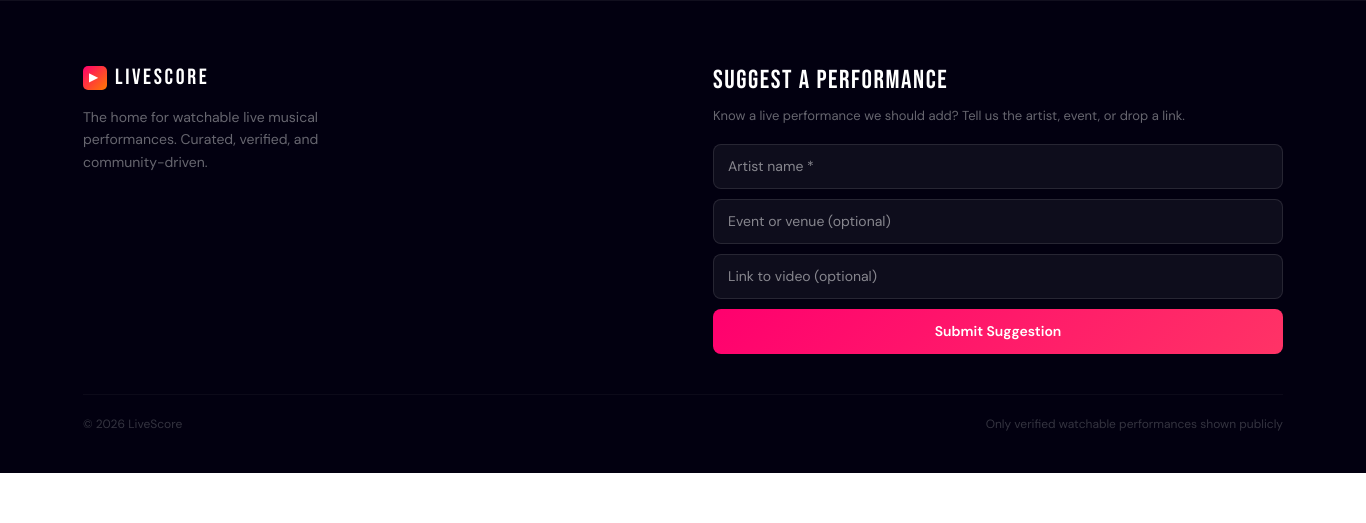
Test case: SuggestFooter › surfaces error text when Supabase returns an error
The image size is (1366, 523).
Type "Radiohead" into the field with placeholder "Artist name *" at [998, 166], box [713,144,1283,188]
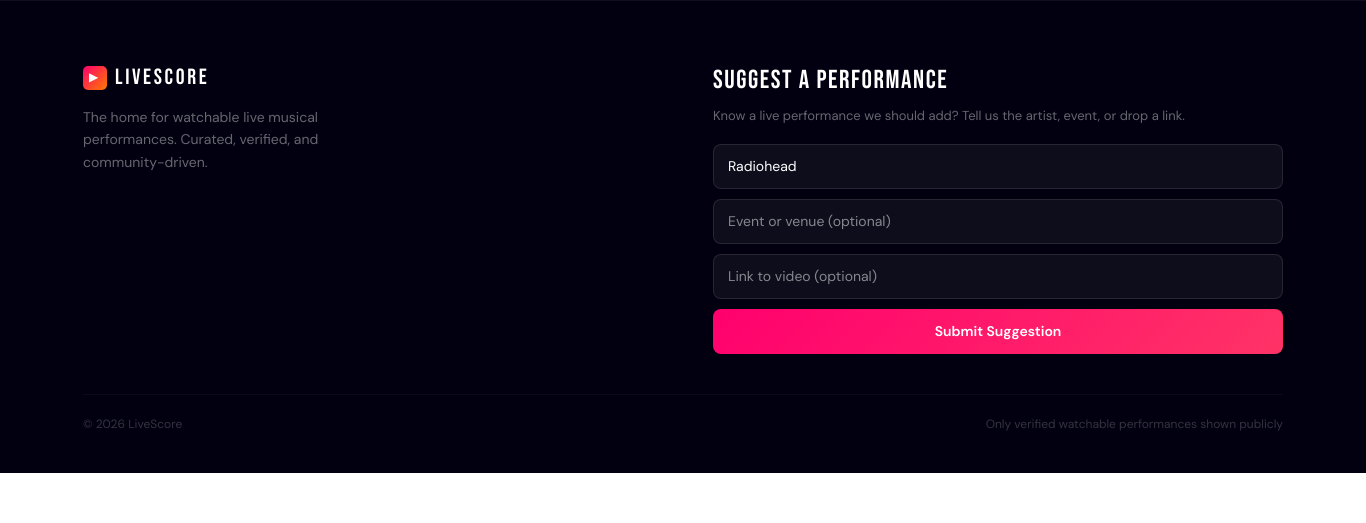
Click the button "Submit Suggestion" at [998, 331], box [713,308,1283,354]
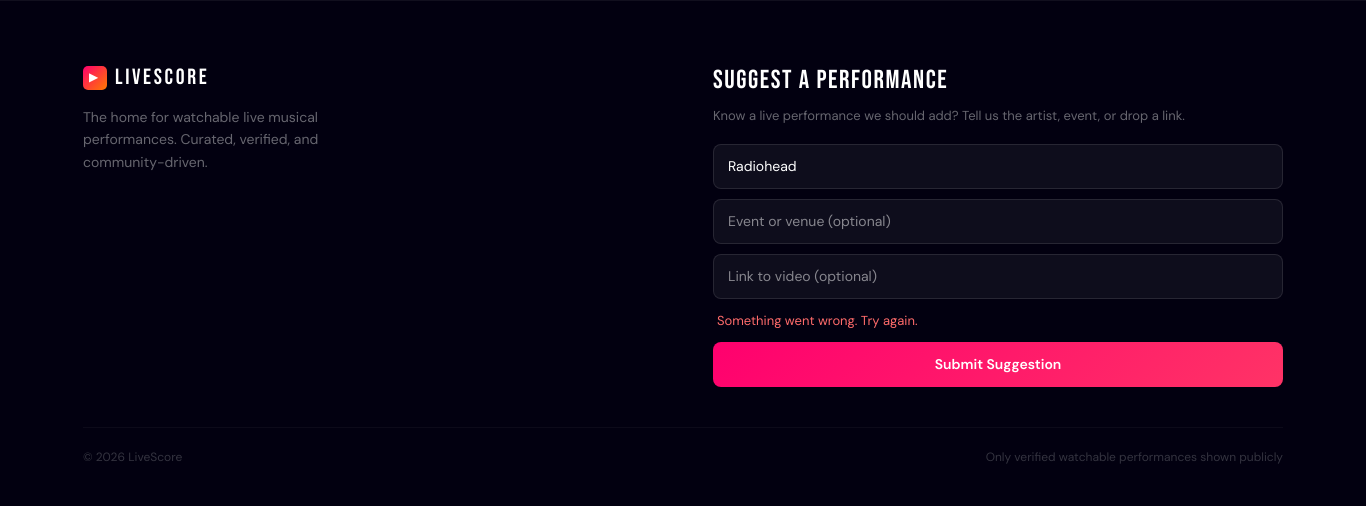
Expected: the button "Submit Suggestion" is shown, [713,342,1283,387]
Now the text "Something went wrong. Try again." is shown, box [717,312,918,328]
